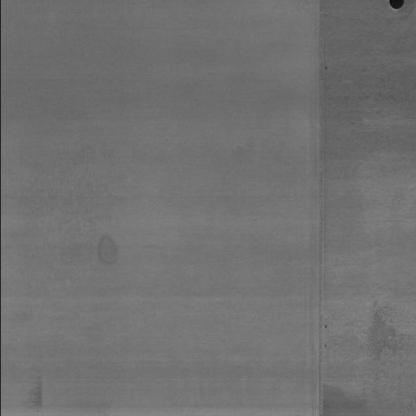oil_spot: (86, 234, 119, 266), (27, 372, 48, 414)
punching_hole: (386, 0, 405, 14)
welding_line: (302, 0, 336, 415)
